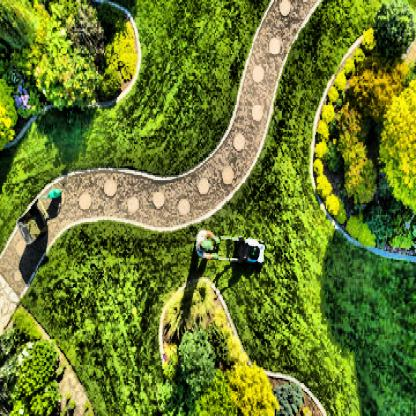tree-top: (381, 75, 416, 214), (25, 36, 97, 103), (340, 138, 382, 204), (227, 361, 277, 416), (98, 26, 136, 96), (353, 60, 400, 115), (176, 333, 214, 395), (376, 0, 416, 55), (191, 373, 235, 416), (0, 0, 39, 43), (0, 78, 22, 154), (274, 381, 306, 416)
